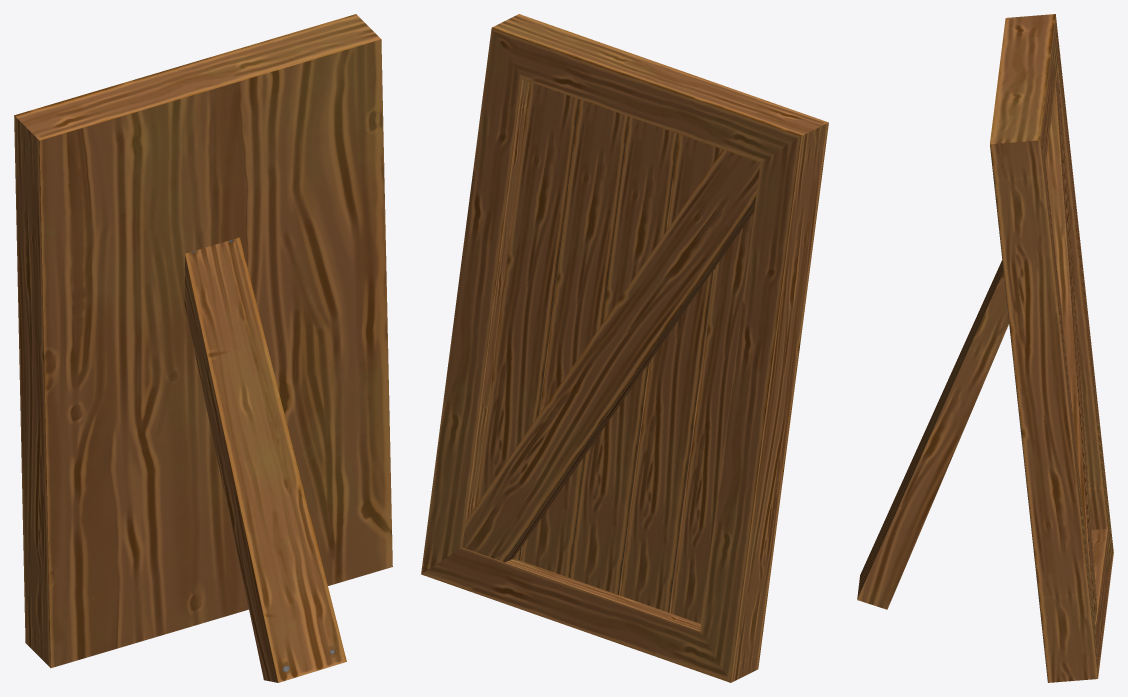
The picture shows the model from 3 angles, left to right: view 1: azimuth 30°, elevation 25°; view 2: azimuth 150°, elevation 25°; view 3: azimuth 270°, elevation 25°; orthographic projection. The views are drawn at different scales.
Visible parts, largest first — view 1: Cube.1882; view 2: Cube.1882; view 3: Cube.1882.
Part boxes in pixels (left/top/right/bottom): Cube.1882: left=14, top=14, right=392, bottom=682; Cube.1882: left=421, top=14, right=828, bottom=682; Cube.1882: left=857, top=14, right=1113, bottom=682.
Size of the model in its own units: 237 by 355 by 150.
Materials: 1 (1 with a texture image).
